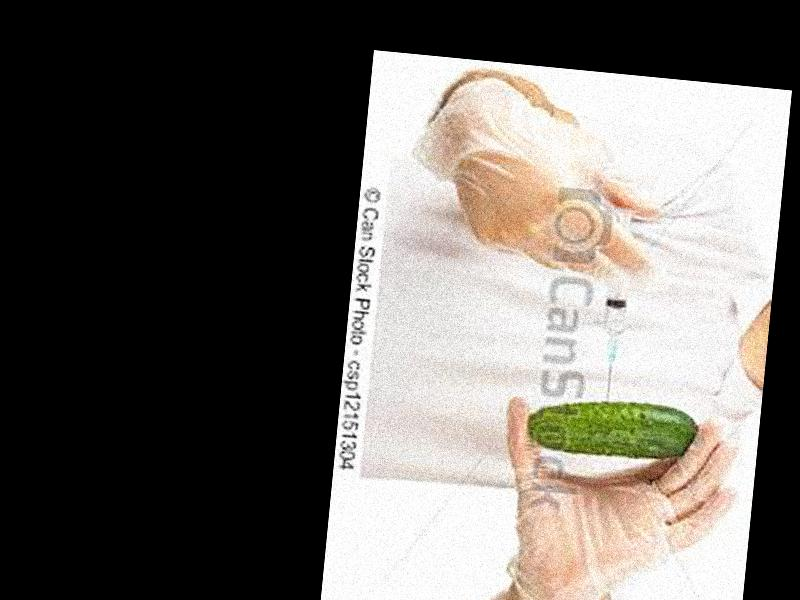Cucumber: (522, 394, 699, 466)
